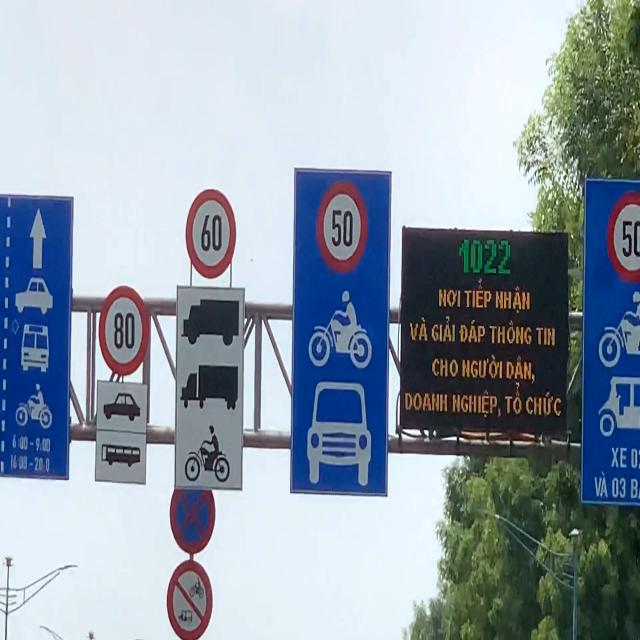P.127: (317, 180, 368, 277), (186, 183, 236, 279), (98, 286, 150, 375)
